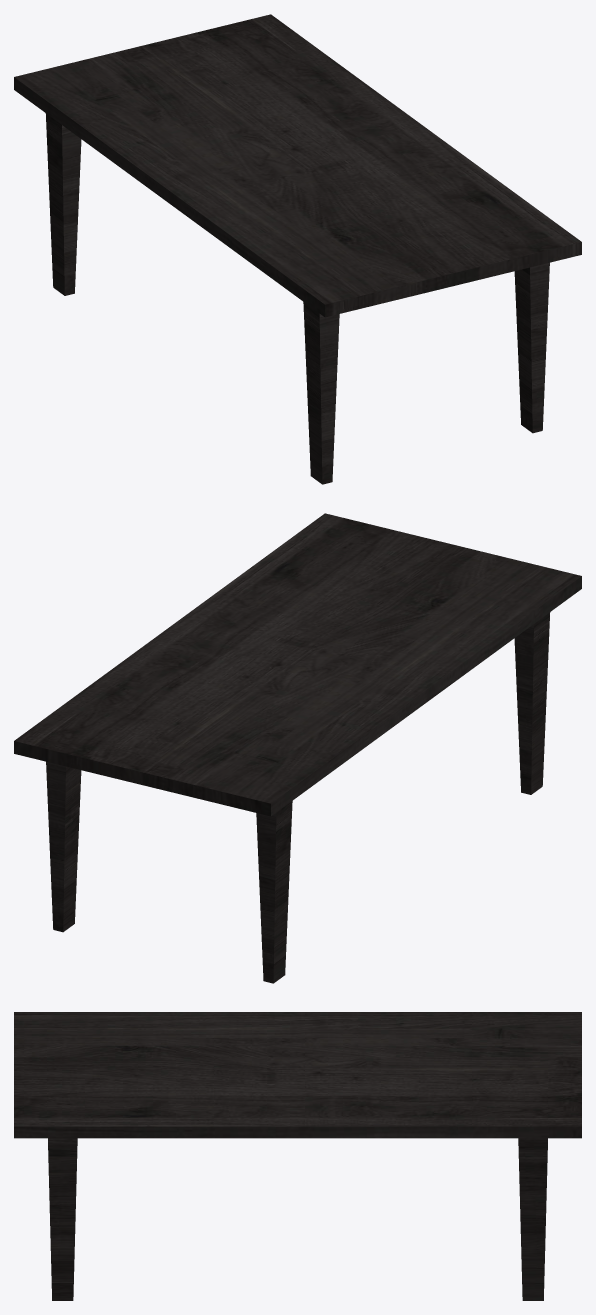
The model's file is DiningTable.fbx.
The picture shows the model from 3 angles, top to bottom: view 1: azimuth 30°, elevation 25°; view 2: azimuth 150°, elevation 25°; view 3: azimuth 270°, elevation 25°; orthographic projection. The views are drawn at different scales.
Visible parts, largest first — view 1: Cube; view 2: Cube; view 3: Cube.
Boxes of the visible parts, <box> form: Cube: <box>14,14,581,484</box>; Cube: <box>14,513,581,983</box>; Cube: <box>14,1012,581,1300</box>.
Size of the model in its own units: 676 by 502 by 1417.
